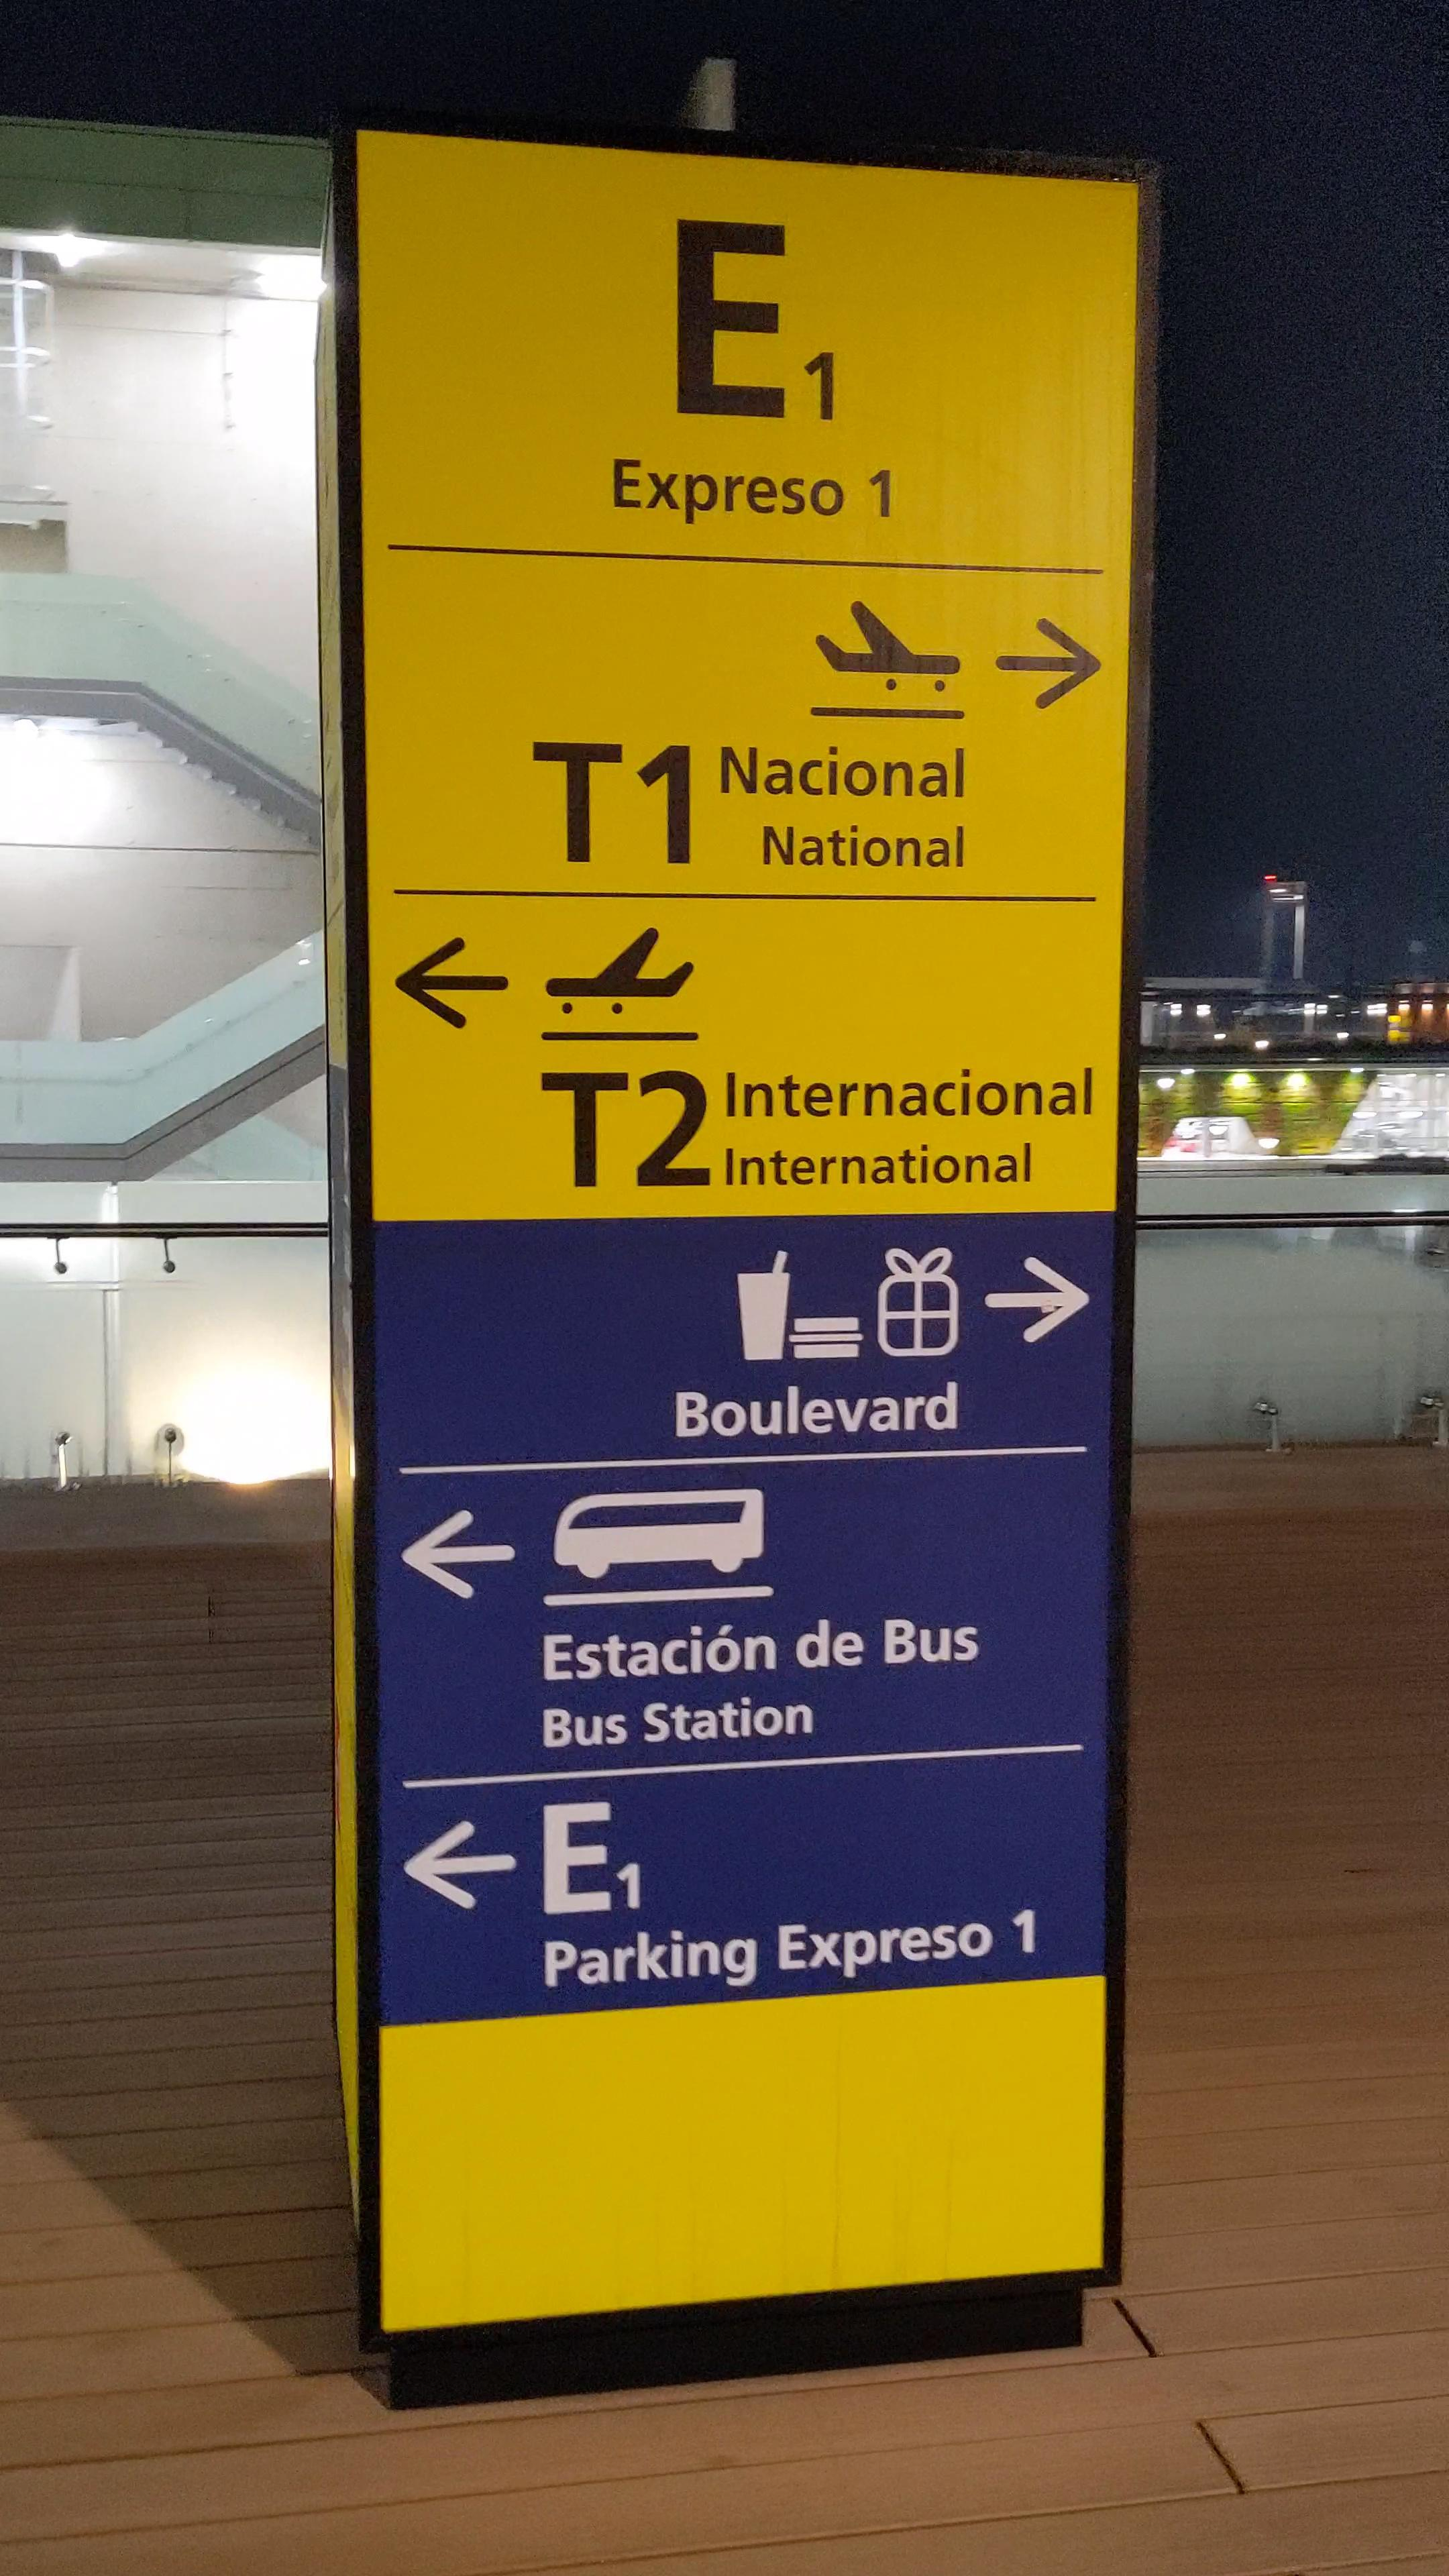airplane symbol: (810, 591, 973, 697), (538, 916, 699, 1023)
thin left arrow: (389, 932, 515, 1037), (403, 1817, 522, 1914)
thin right arrow: (993, 610, 1108, 715), (402, 1506, 522, 1603), (985, 1253, 1099, 1343)
